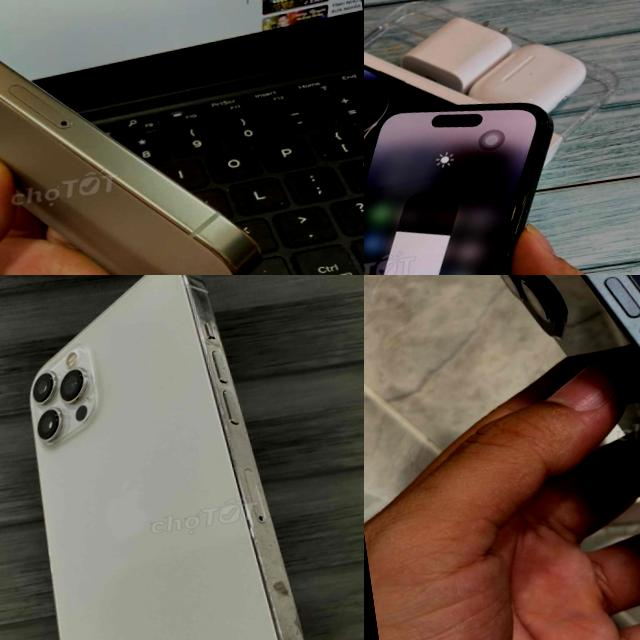gen_12_13: (2, 275, 341, 640), (479, 275, 640, 640)
gen_14: (364, 79, 587, 275)
gen_16: (0, 0, 279, 275)
